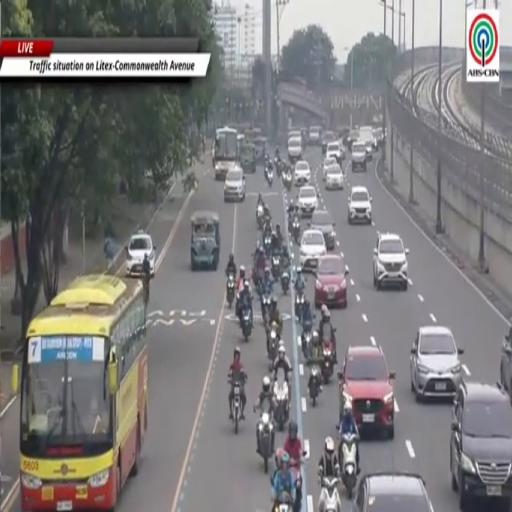bus: (11, 275, 148, 511), (213, 126, 238, 180)
car: (450, 380, 511, 510), (339, 345, 395, 438), (410, 326, 463, 402), (352, 471, 433, 511), (373, 233, 408, 291), (315, 254, 348, 308), (125, 230, 155, 277), (309, 210, 335, 250), (300, 230, 326, 270), (348, 186, 372, 225), (500, 327, 511, 403), (224, 168, 245, 201), (298, 186, 317, 218), (351, 141, 366, 171), (294, 160, 311, 186), (325, 166, 344, 189), (326, 141, 344, 164), (288, 137, 302, 162), (322, 131, 336, 154), (322, 158, 336, 180), (344, 131, 358, 151), (309, 125, 321, 145), (365, 137, 373, 162)
jeepney: (191, 212, 220, 270), (239, 142, 257, 174), (253, 137, 266, 164)
motorcycle: (340, 434, 357, 499), (290, 451, 307, 511), (258, 412, 274, 473), (274, 380, 289, 431), (319, 477, 341, 511), (230, 381, 241, 434), (267, 323, 279, 370), (321, 340, 334, 383), (308, 364, 321, 407), (301, 321, 313, 360), (241, 307, 253, 341), (252, 267, 263, 297), (295, 293, 305, 323), (227, 275, 235, 309), (261, 294, 270, 324), (271, 253, 280, 280), (281, 269, 290, 294), (292, 216, 300, 244), (256, 204, 264, 229), (143, 276, 149, 309), (263, 234, 271, 257), (274, 501, 292, 511), (283, 172, 292, 191), (274, 157, 281, 178), (265, 168, 273, 186)
